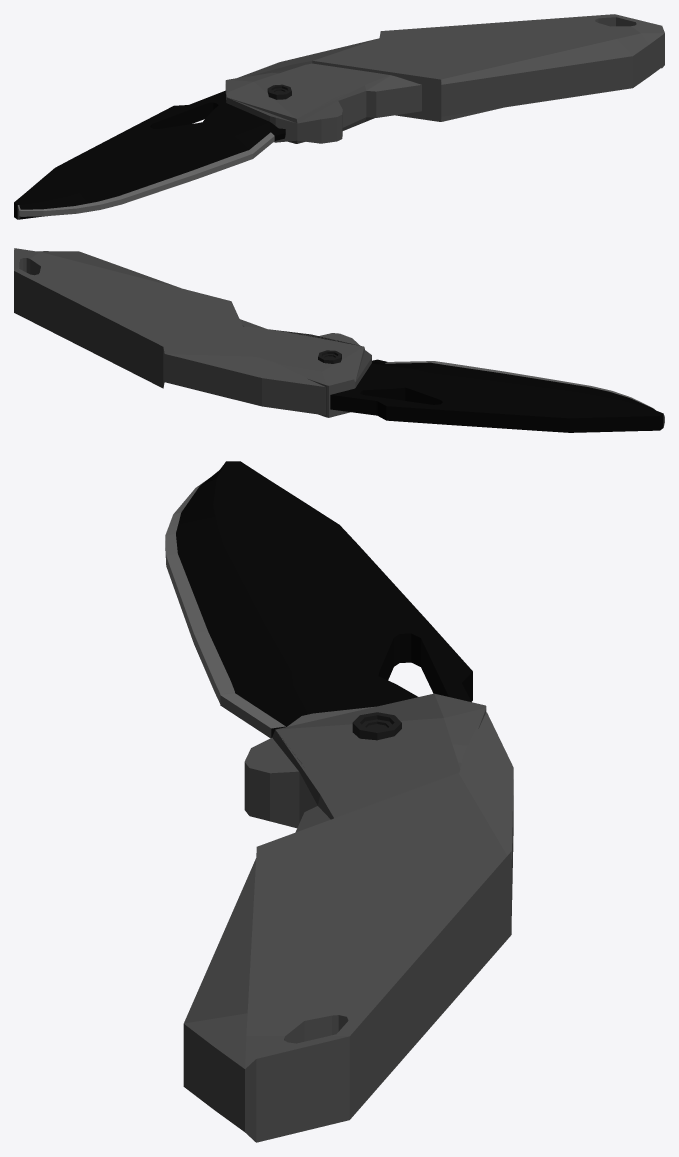
The model's file is knife_01.fbx.
3 views of the same model, one above another, from view 1: azimuth 30°, elevation 25°; view 2: azimuth 150°, elevation 25°; view 3: azimuth 270°, elevation 25° (orthographic). The views are drawn at different scales.
Parts seen in each view (by area): view 1: Knife_01, Blade.001; view 2: Knife_01, Blade.001; view 3: Knife_01, Blade.001.
Part boxes in pixels (x1,y1,x2,y2): Knife_01: (225, 14, 664, 143); Blade.001: (14, 90, 285, 219); Knife_01: (14, 248, 371, 417); Blade.001: (330, 359, 664, 432); Knife_01: (183, 693, 513, 1142); Blade.001: (165, 461, 472, 738).
Size of the model in its own units: 481 by 30.01 by 113.
